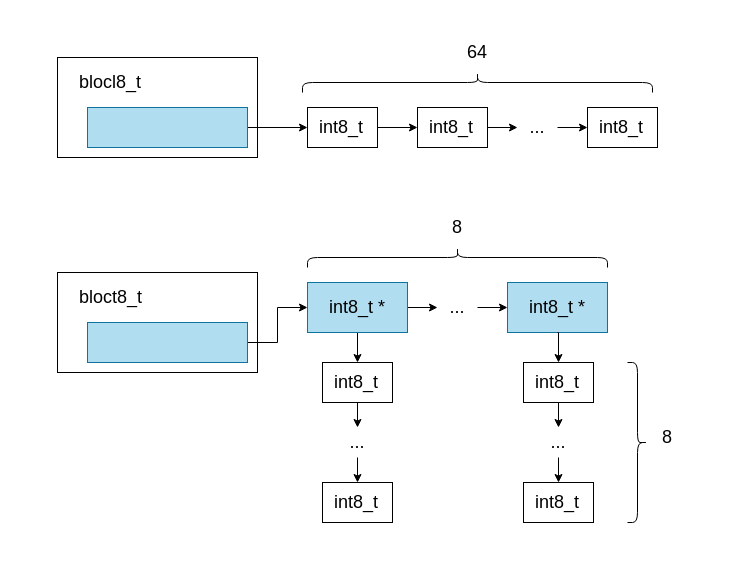
The diagram is 734 pixels wide and 584 high, and some of its shapes have lost their labels. The box of each missing label's shape, as (x1, y1, x2, y2) in pixels:
uint8_t data[64]: (86, 106, 248, 148)
uint8_t data[8][8]: (86, 322, 248, 362)
